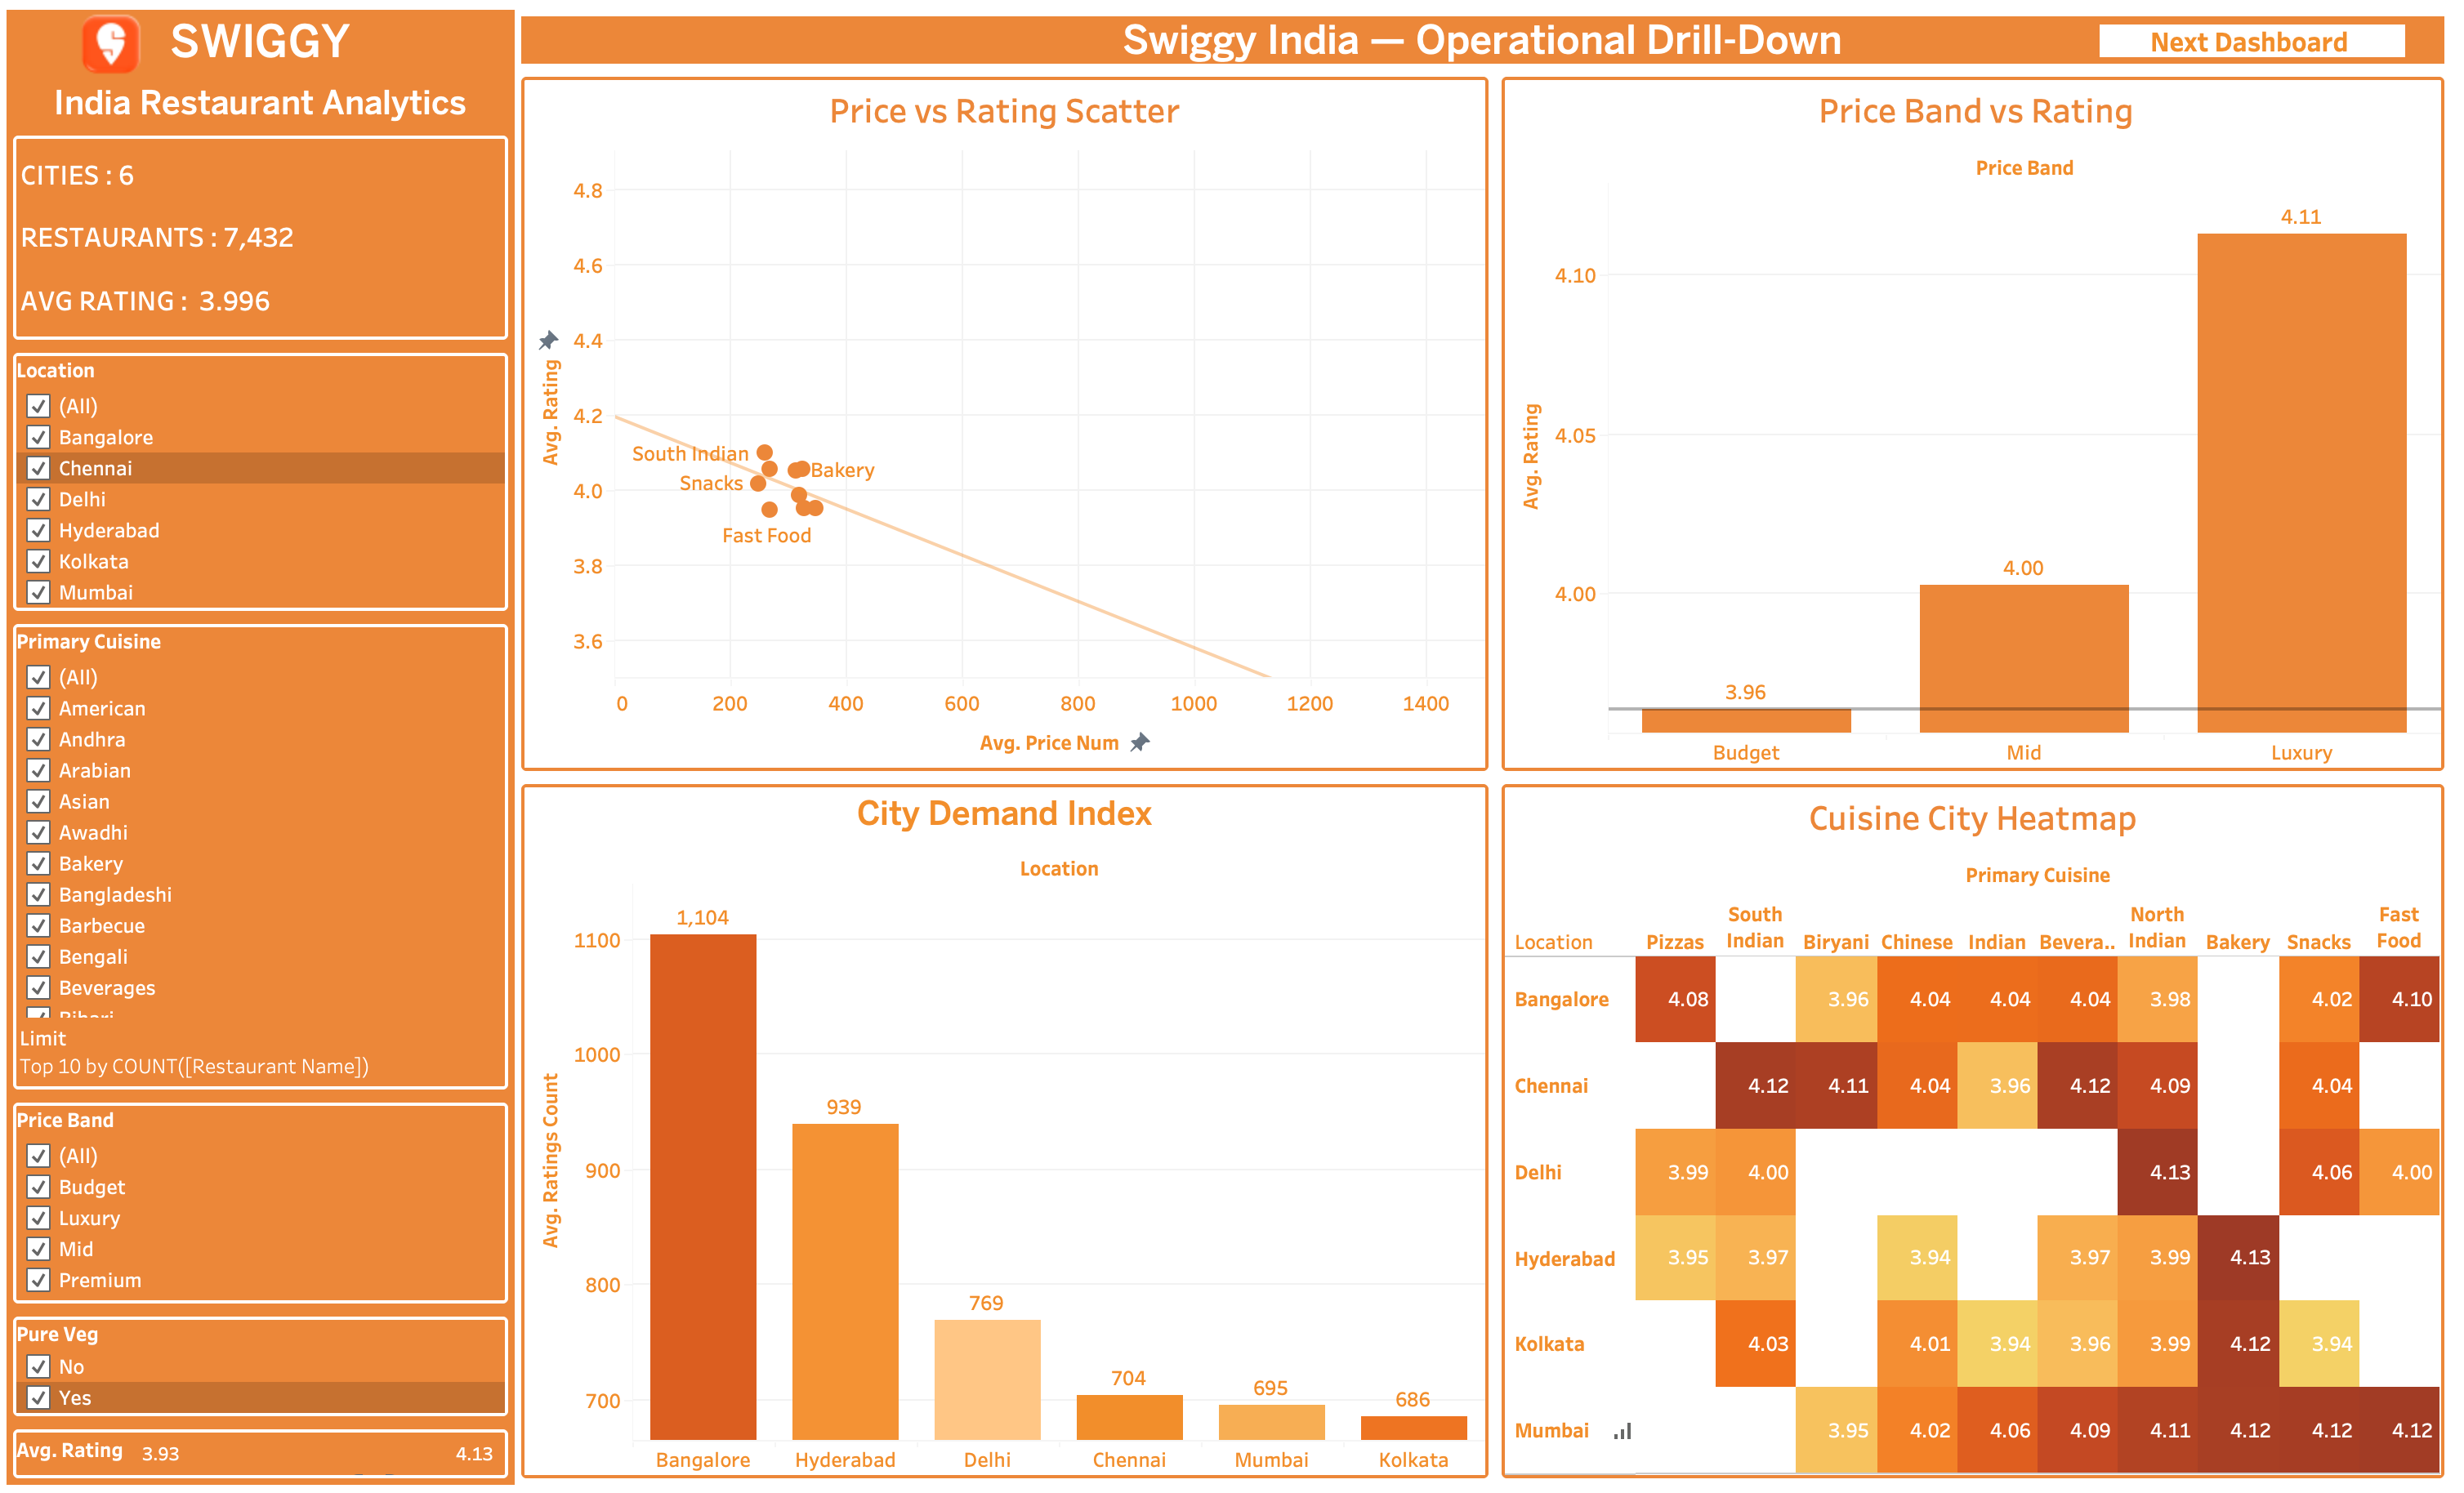

This screenshot's page, from the dashboard's own definition file:
{"tool":"tableau","page":{"name":"Operational Dashboard","canvas":[1000,1000],"units":"permille","ordinal":2},"visuals":[{"type":"image","param":"Image/swiggy-transparent-icon-free-png.png","box":[28.4,0,58.3,63]},{"type":"text","box":[5.4,9.3,205.7,47.8]},{"type":"title","box":[211.1,9.3,783.5,43.2]},{"type":"dashboard-object","box":[852.6,18.7,123.6,22.2]},{"type":"worksheet","title":"Price vs Rating Scatter","mark":"Circle","rows":["rating"],"cols":["price_num"],"box":[211.1,52.5,396.5,469]},{"type":"worksheet","title":" Price Band vs Rating","mark":"Bar","rows":["rating"],"cols":["Calculation_1582191466835969"],"box":[607.6,52.5,387,469]},{"type":"text","box":[5.4,57.2,205.7,37.3]},{"type":"text","box":[5.4,94.5,205.7,155.2]},{"type":"filter","title":" Price Band vs Rating","param":"[federated.0db9a551ju78yk18ma47h00qbviu].[none:location:nk]","box":[5.4,249.7,205.7,193.7]},{"type":"filter","title":"Price vs Rating Scatter","param":"[federated.0db9a551ju78yk18ma47h00qbviu].[none:primary_cuisine:nk]","box":[5.4,443.4,205.7,269.6]},{"type":"worksheet","title":"City Demand Index","mark":"Bar","rows":["ratings_count"],"cols":["location"],"box":[211.1,521.5,396.5,469.2]},{"type":"worksheet","title":"Cuisine City Heatmap","mark":"Square","rows":["location"],"cols":["primary_cuisine"],"box":[607.6,521.5,387,469.2]},{"type":"filter","title":" Price Band vs Rating","param":"[federated.0db9a551ju78yk18ma47h00qbviu].[none:Calculation_1582191466835969:nk]","box":[5.4,713,205.7,152.8]},{"type":"filter","title":"City Demand Index","param":"[federated.0db9a551ju78yk18ma47h00qbviu].[none:pure_veg:nk]","box":[5.4,865.8,205.7,80.5]},{"type":"filter","title":"Cuisine City Heatmap","param":"[federated.0db9a551ju78yk18ma47h00qbviu].[avg:rating:qk]","box":[5.4,946.3,205.7,44.3]}]}

Visuals, with their boxes on the dashboard's canvas, which has no fixed pixel size, in thousandths of its width and height (x1, y1, x2, y2). These are canvas units, not pixel positions in the 2464x1493 screenshot, which may show the page scaled, cropped or inside an application window:
image: [left=28, top=0, right=87, bottom=63]
text: [left=5, top=9, right=211, bottom=57]
title: [left=211, top=9, right=995, bottom=52]
dashboard-object: [left=853, top=19, right=976, bottom=41]
"Price vs Rating Scatter" worksheet (Circle marks): [left=211, top=52, right=608, bottom=522]
" Price Band vs Rating" worksheet (Bar marks): [left=608, top=52, right=995, bottom=522]
text: [left=5, top=57, right=211, bottom=94]
text: [left=5, top=94, right=211, bottom=250]
" Price Band vs Rating" filter: [left=5, top=250, right=211, bottom=443]
"Price vs Rating Scatter" filter: [left=5, top=443, right=211, bottom=713]
"City Demand Index" worksheet (Bar marks): [left=211, top=522, right=608, bottom=991]
"Cuisine City Heatmap" worksheet (Square marks): [left=608, top=522, right=995, bottom=991]
" Price Band vs Rating" filter: [left=5, top=713, right=211, bottom=866]
"City Demand Index" filter: [left=5, top=866, right=211, bottom=946]
"Cuisine City Heatmap" filter: [left=5, top=946, right=211, bottom=991]
